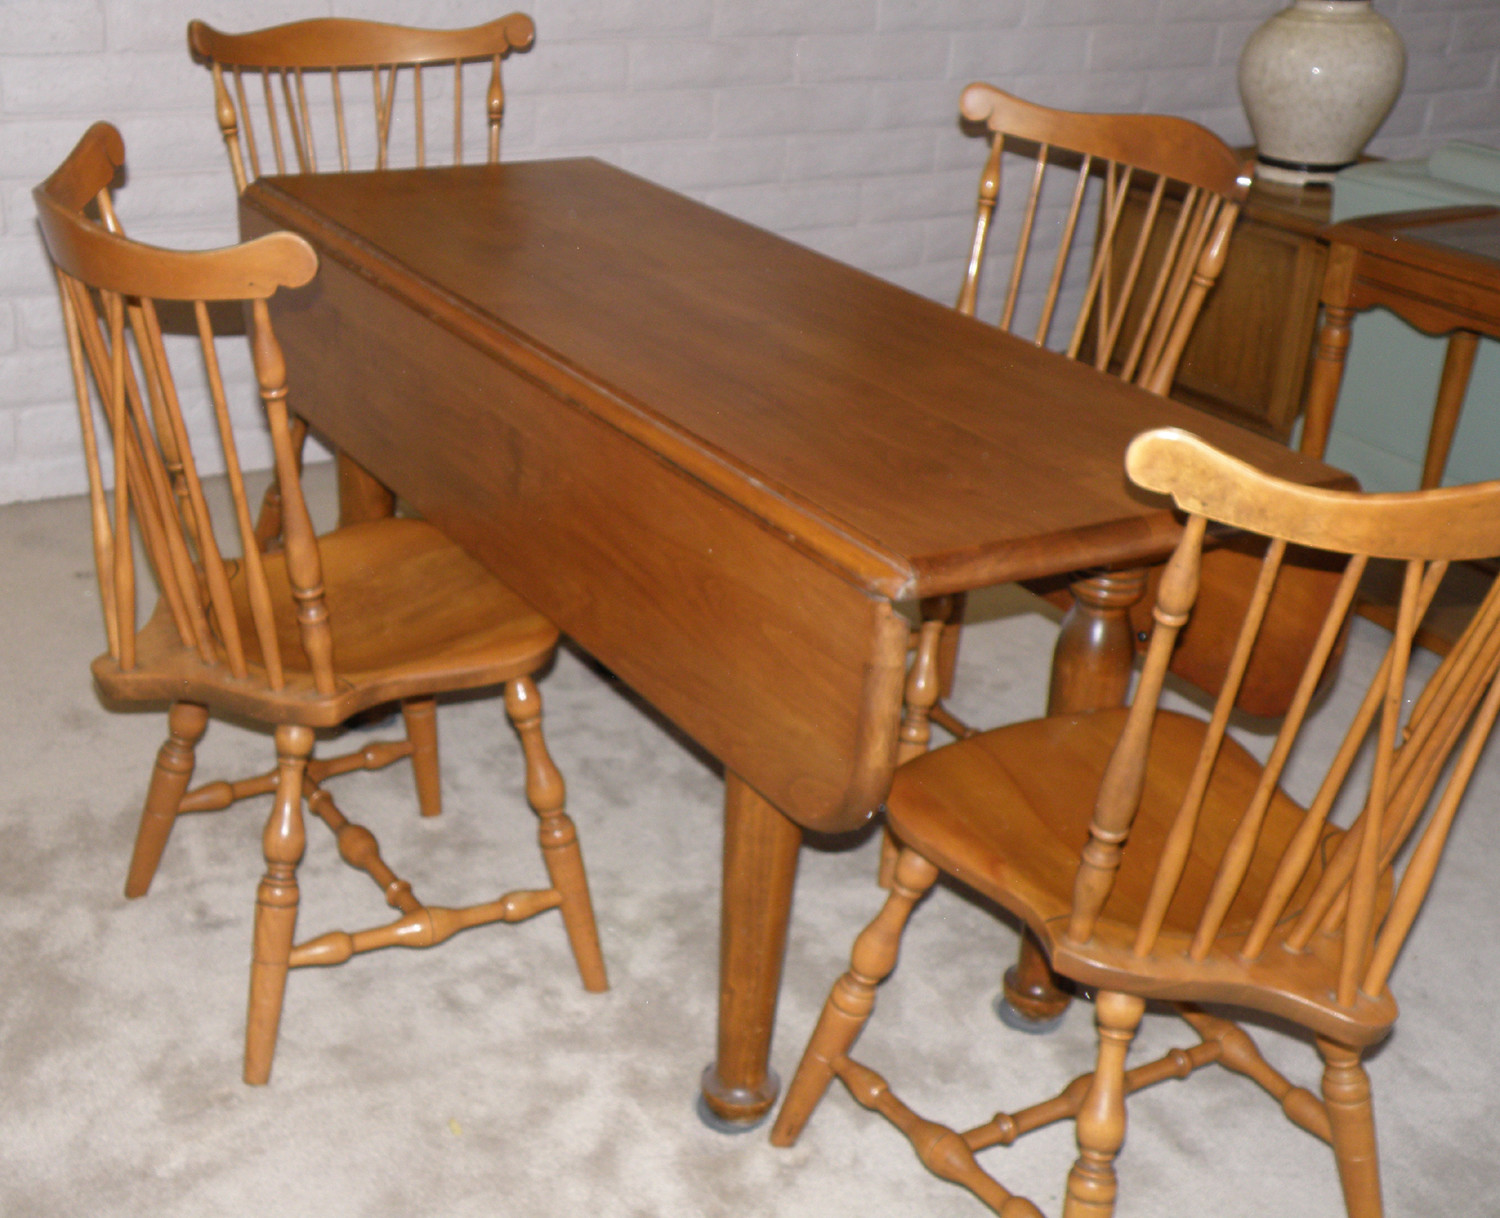chair: (32, 111, 603, 1045), (989, 410, 1494, 1218)
dining table: (227, 150, 1200, 1143)
